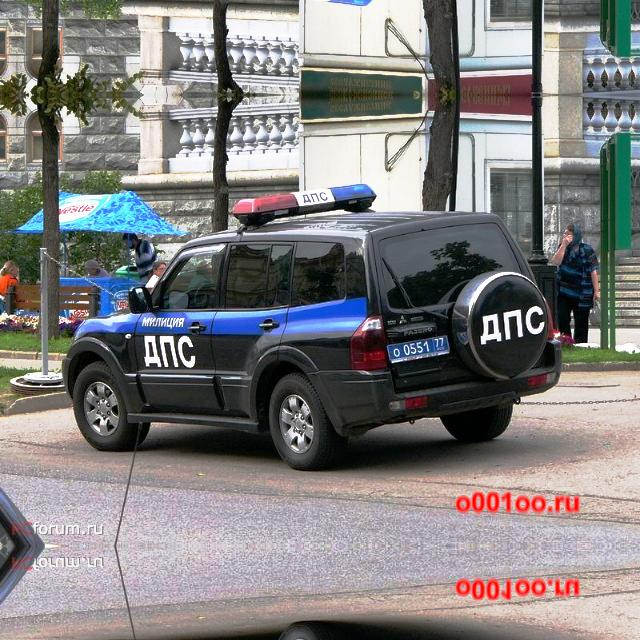police: (382, 329, 452, 366)
